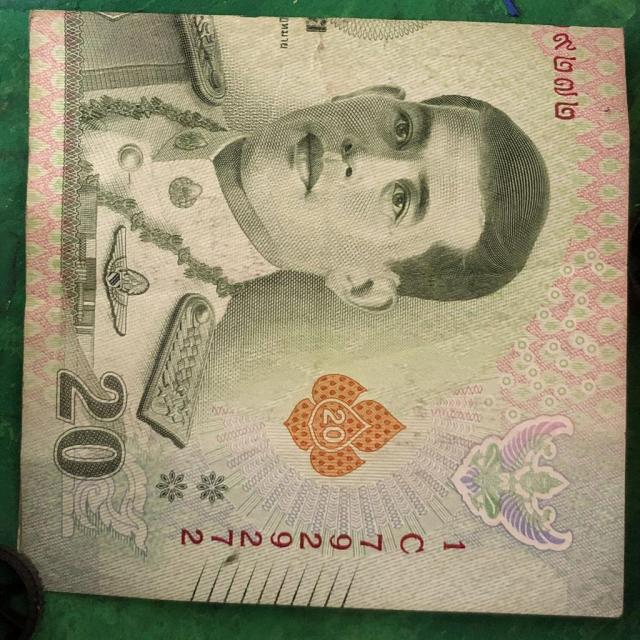THAI20: (15, 11, 629, 621)
